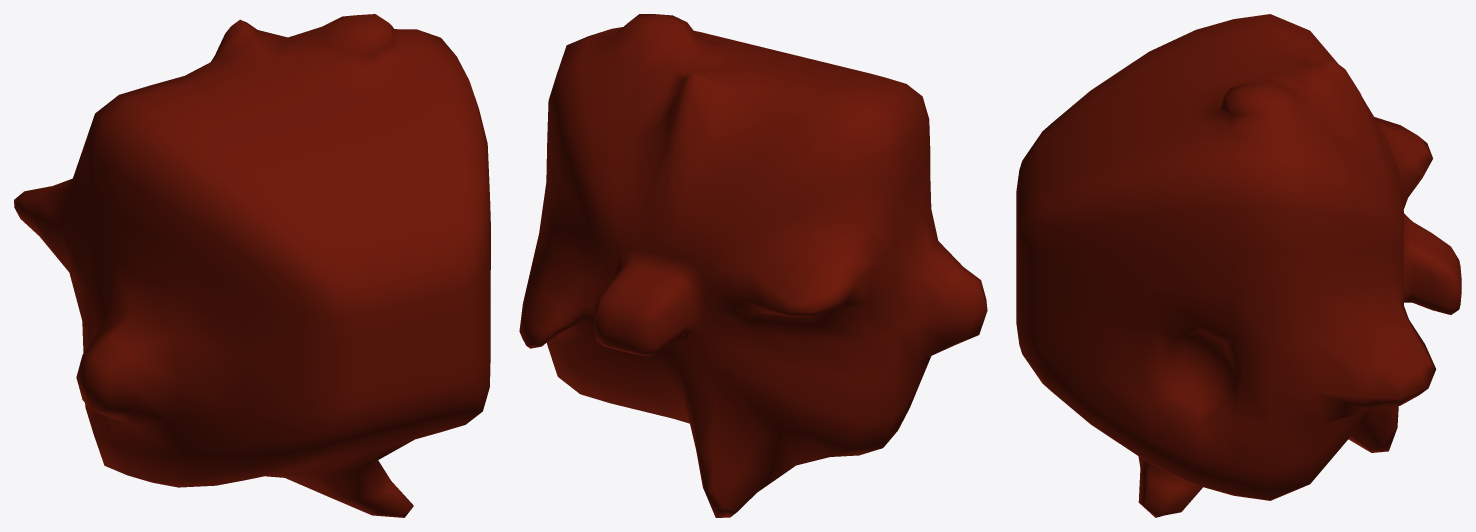
The model's file is HEART.fbx.
The picture shows the model from 3 angles, left to right: view 1: azimuth 30°, elevation 25°; view 2: azimuth 150°, elevation 25°; view 3: azimuth 270°, elevation 25°; orthographic projection. The views are drawn at different scales.
Visible parts, largest first — view 1: HEART; view 2: HEART; view 3: HEART.
Boxes of the visible parts, x1,y1,x2,y2 form: HEART: [14, 14, 490, 517]; HEART: [519, 14, 987, 517]; HEART: [1016, 14, 1461, 517].
Bounding box in the file's own units: 160 × 168 × 157.
